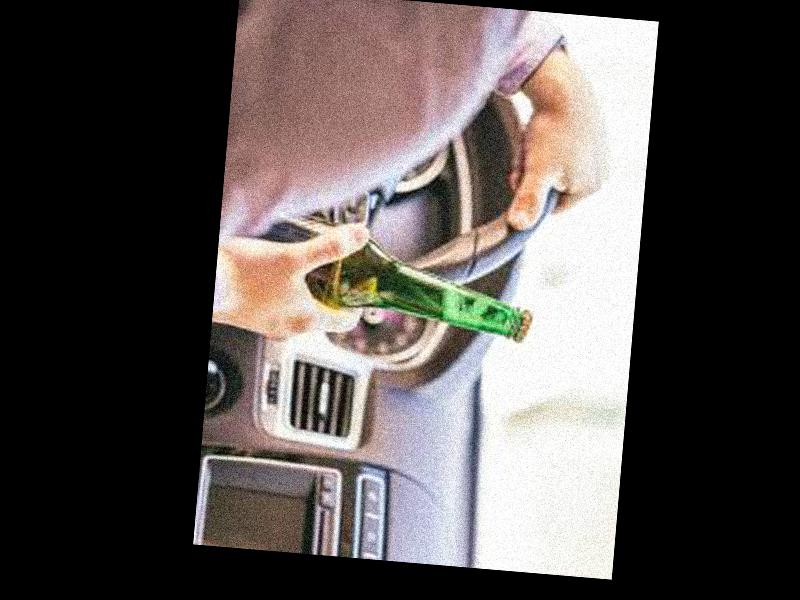Beer: (225, 204, 541, 345)
